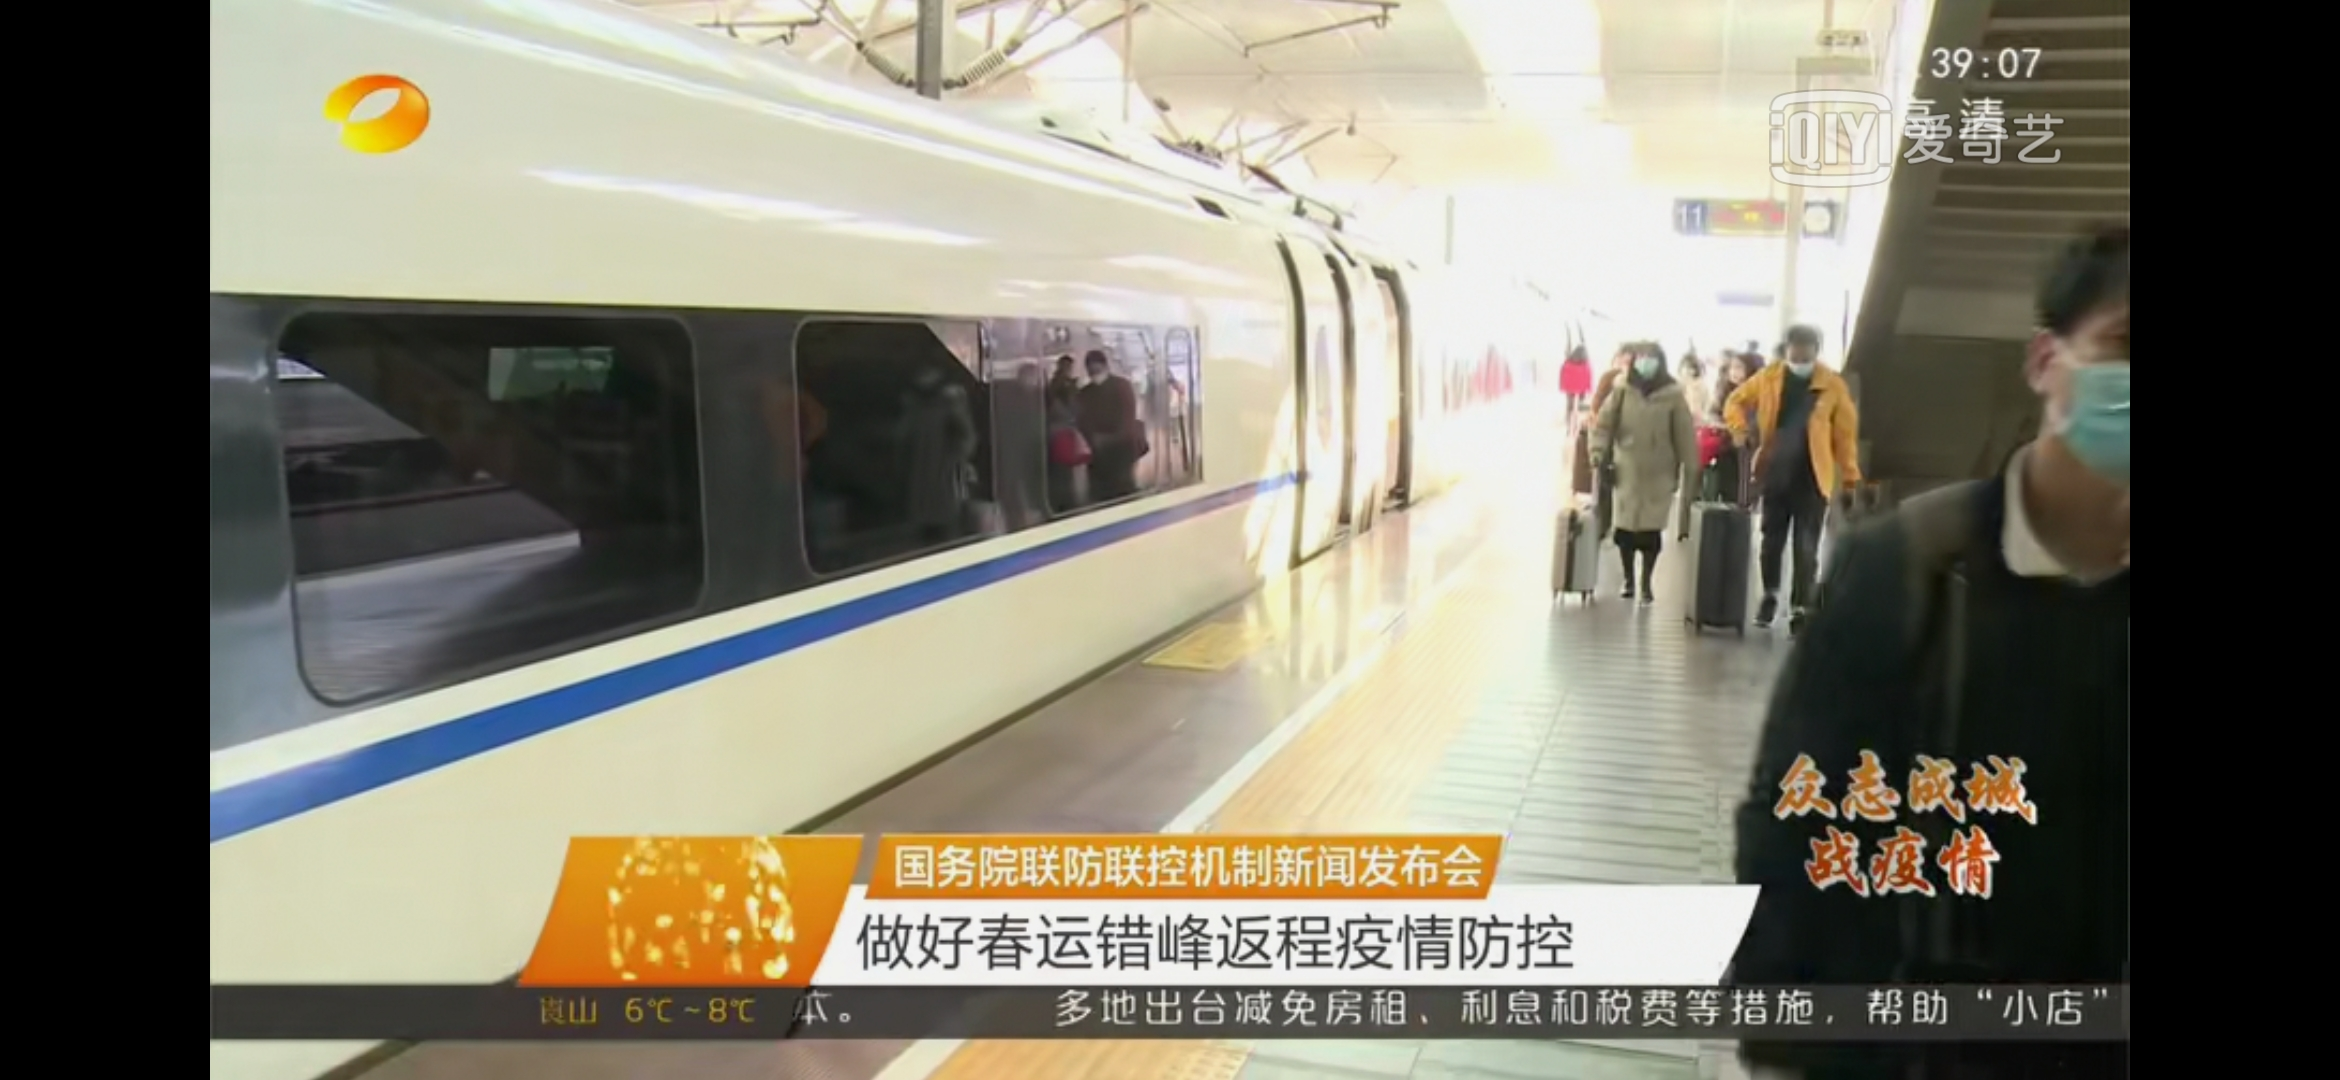correctlyWear: (2025, 292, 2131, 476), (1780, 342, 1825, 379), (1630, 348, 1664, 383)
